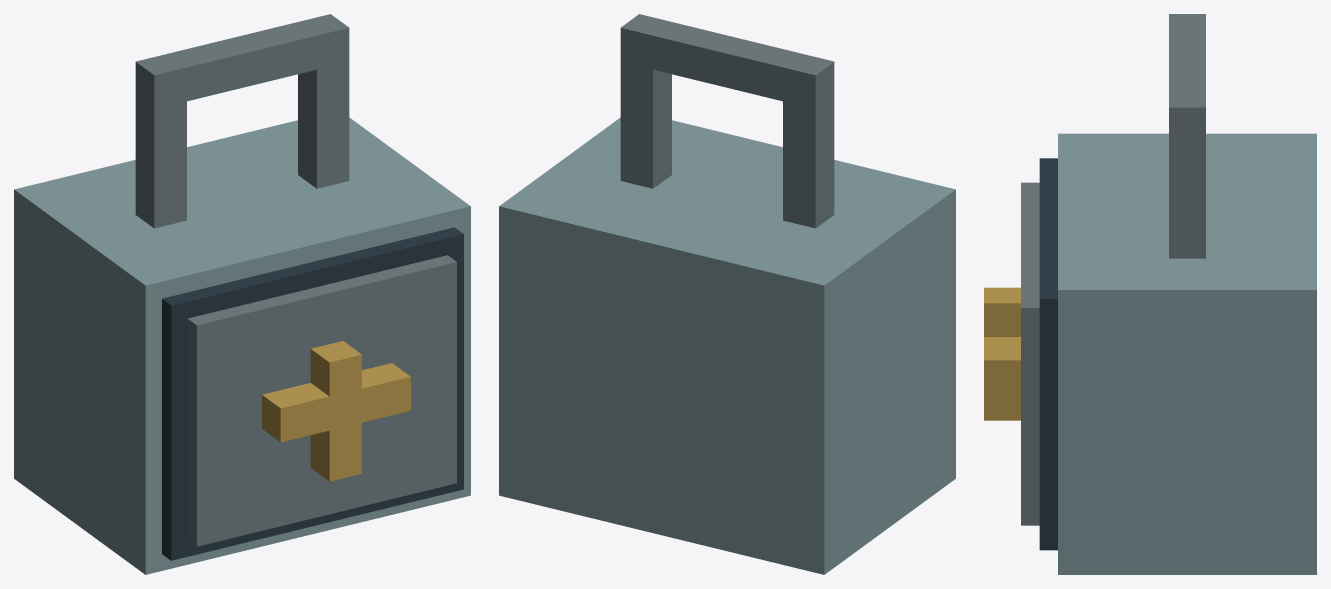
The model's file is iot-06.glb.
The picture shows the model from 3 angles, left to right: view 1: azimuth 30°, elevation 25°; view 2: azimuth 150°, elevation 25°; view 3: azimuth 270°, elevation 25°; orthographic projection.
Parts seen in each view (by area): view 1: Smart lock; view 2: Smart lock; view 3: Smart lock.
Part boxes in pixels (bbox=[...]): Smart lock: bbox=[14, 14, 470, 574]; Smart lock: bbox=[499, 14, 955, 574]; Smart lock: bbox=[984, 14, 1316, 574].
Bounding box in the file's own units: 1.6 × 2.08 × 1.44.
